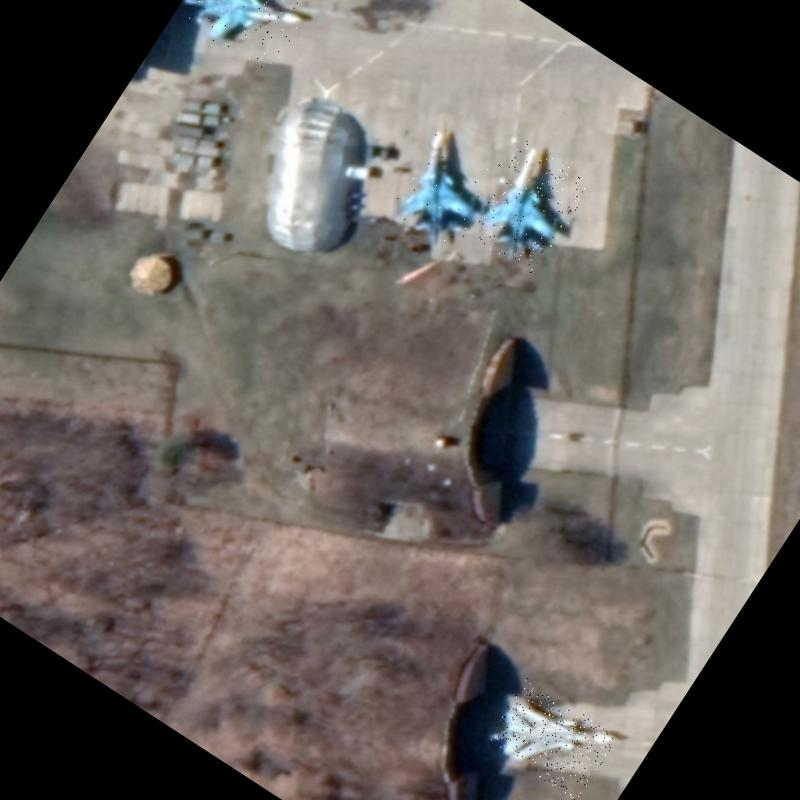A19: (463, 138, 594, 278), (382, 126, 508, 259), (174, 0, 310, 77)
A20: (484, 678, 618, 800)
